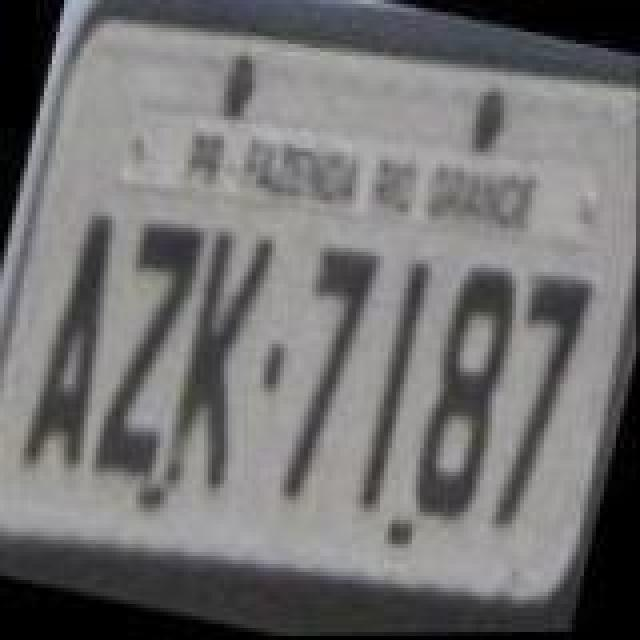1: (352, 260, 436, 516)
7: (262, 246, 382, 514), (474, 274, 594, 538)
8: (404, 258, 528, 530)
A: (20, 206, 136, 474)
K: (160, 222, 284, 494)
Z: (88, 214, 212, 486)
